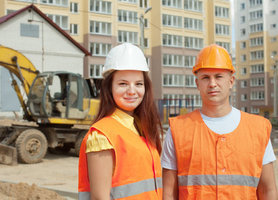SAFE: (174, 44, 270, 200), (86, 42, 164, 200)
